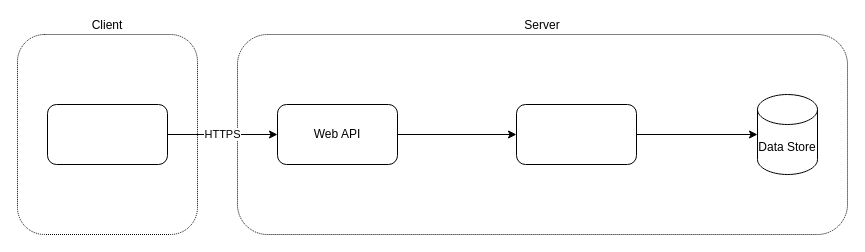
This 865x252 diagram has some shape labels left out. Here are the shapes that lost their labels. From the top down, the centre of each, then its label:
At pixel 107 134: "Mobile App".
At pixel 576 134: "Web Service".
